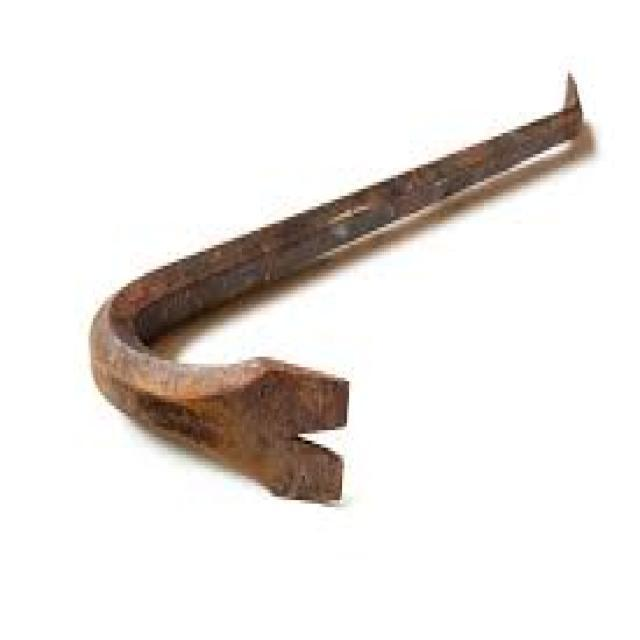Linggis: (78, 72, 590, 524)
